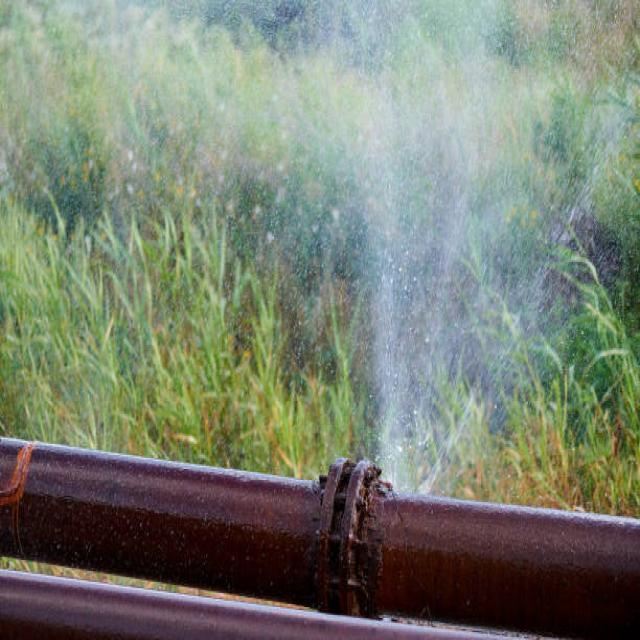pipe burst: (274, 0, 640, 507)
